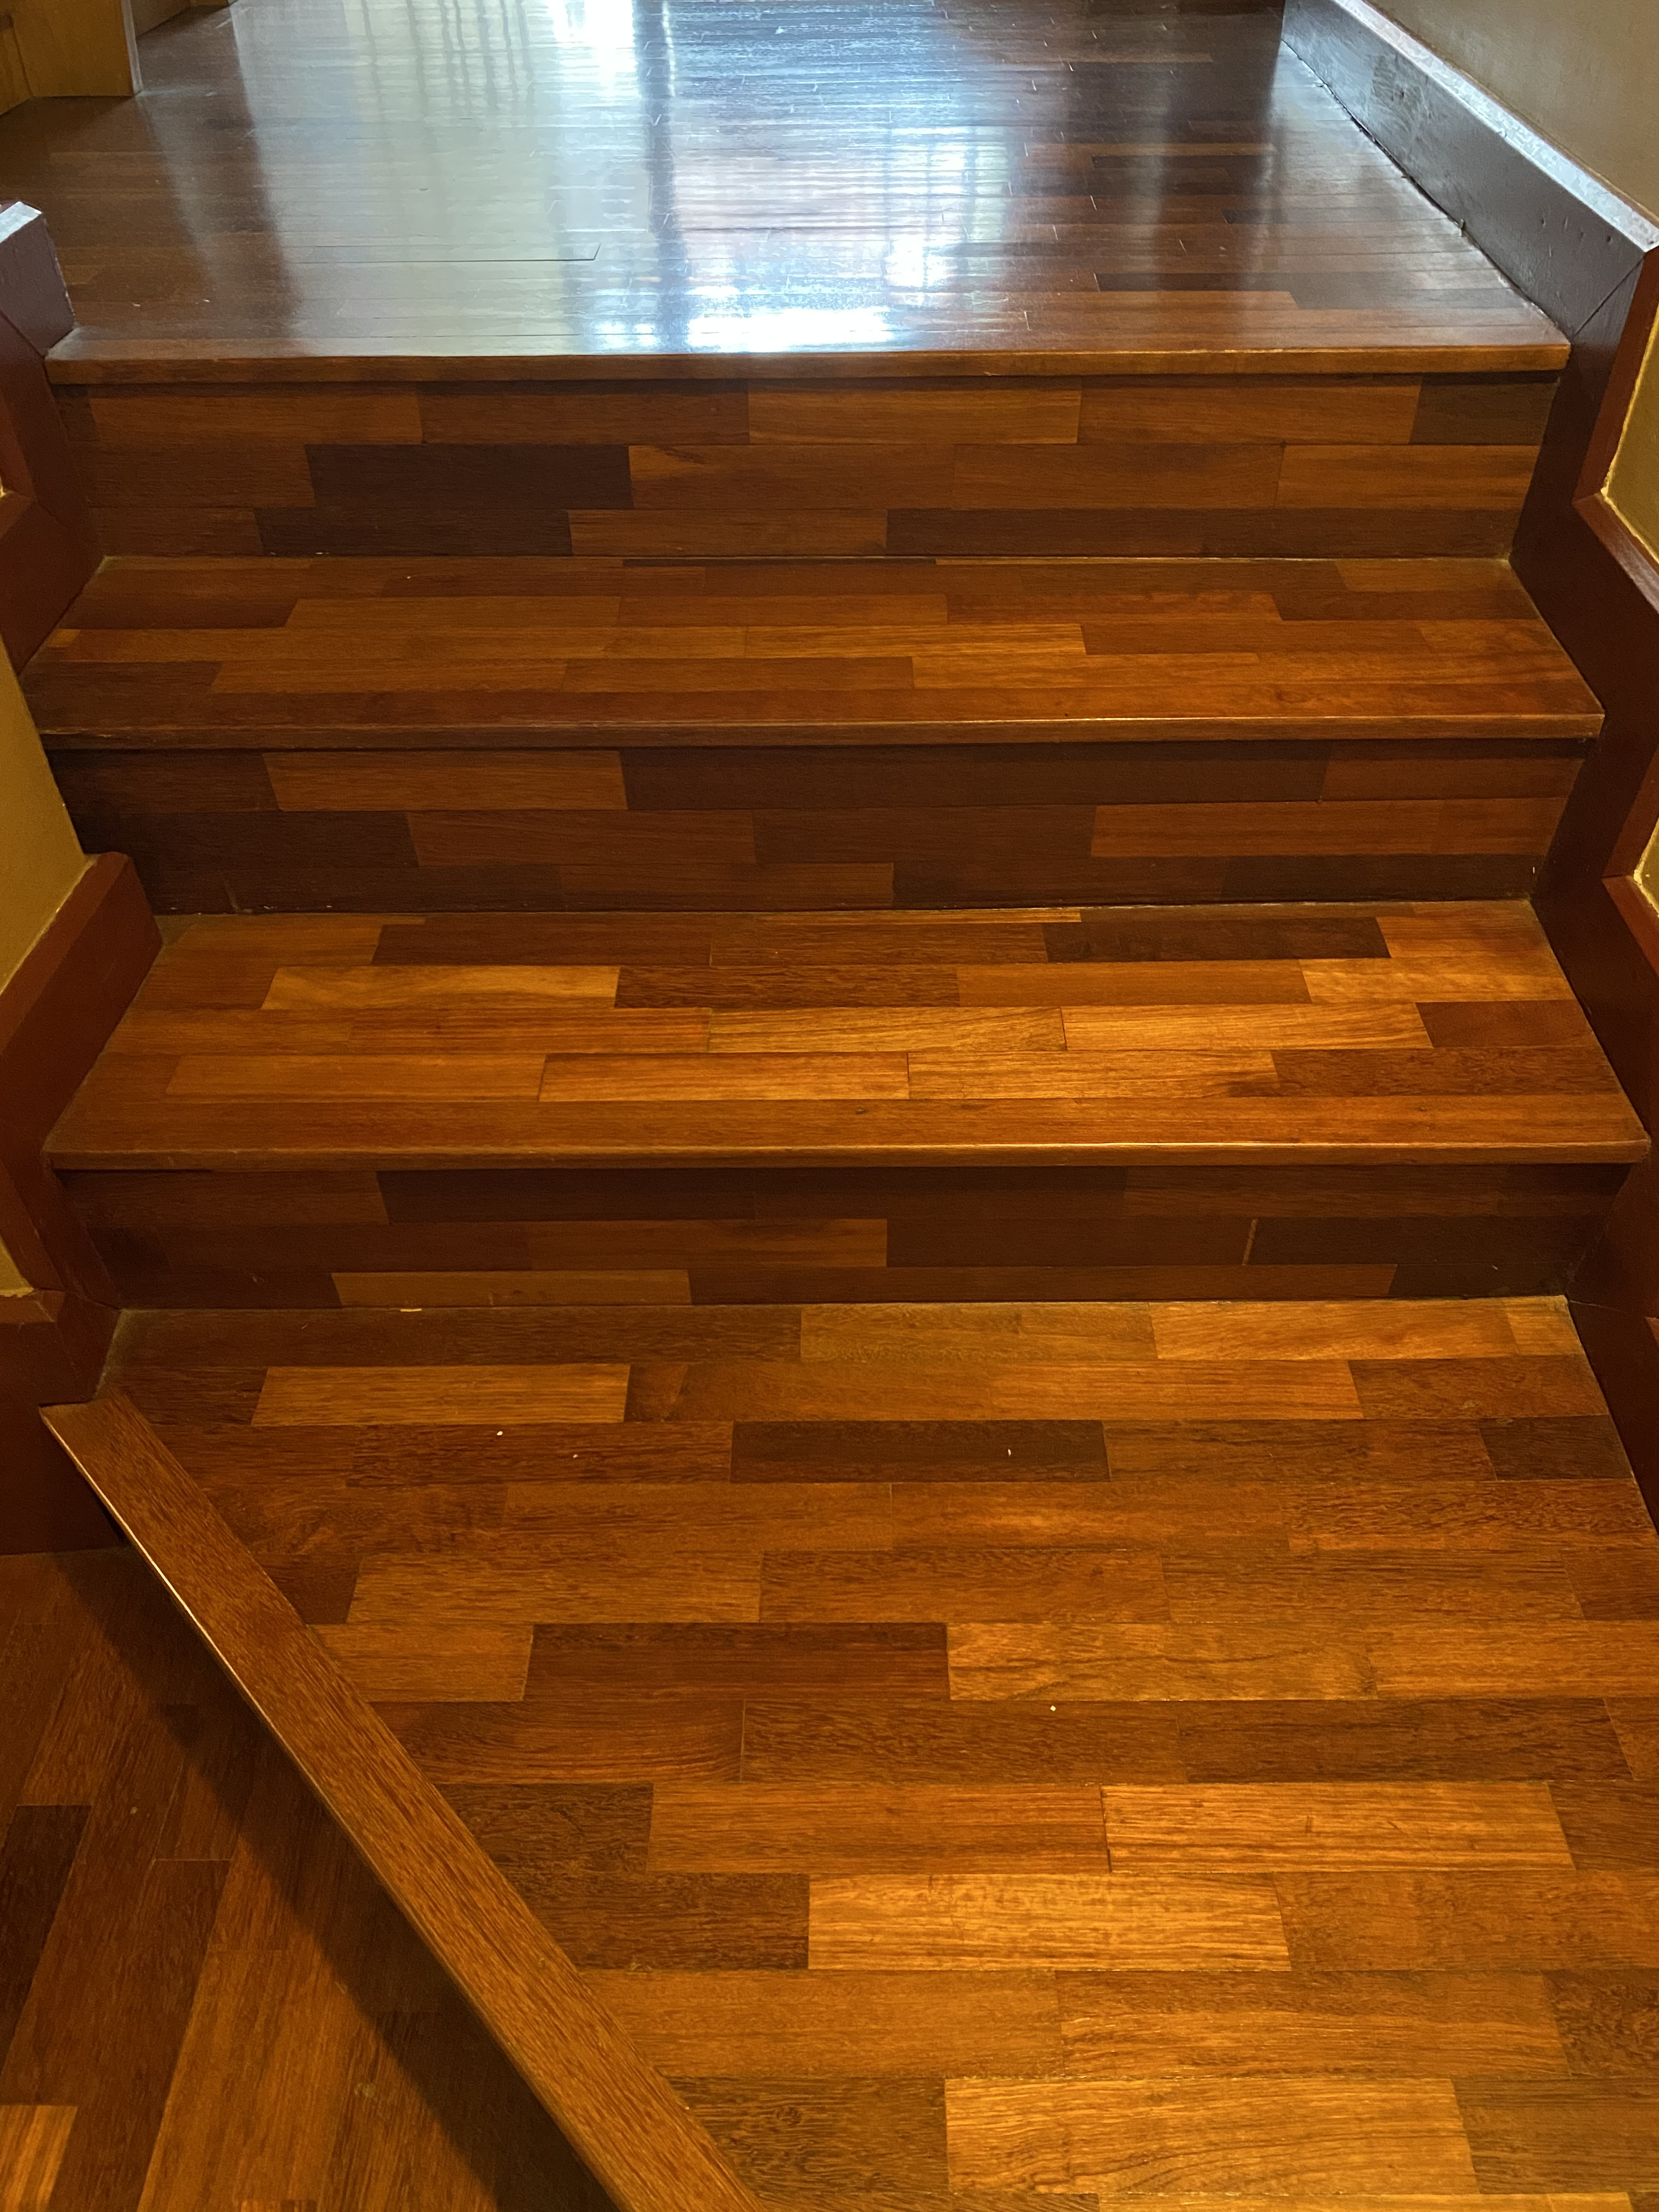upstairs: (134, 253, 1560, 1430)
